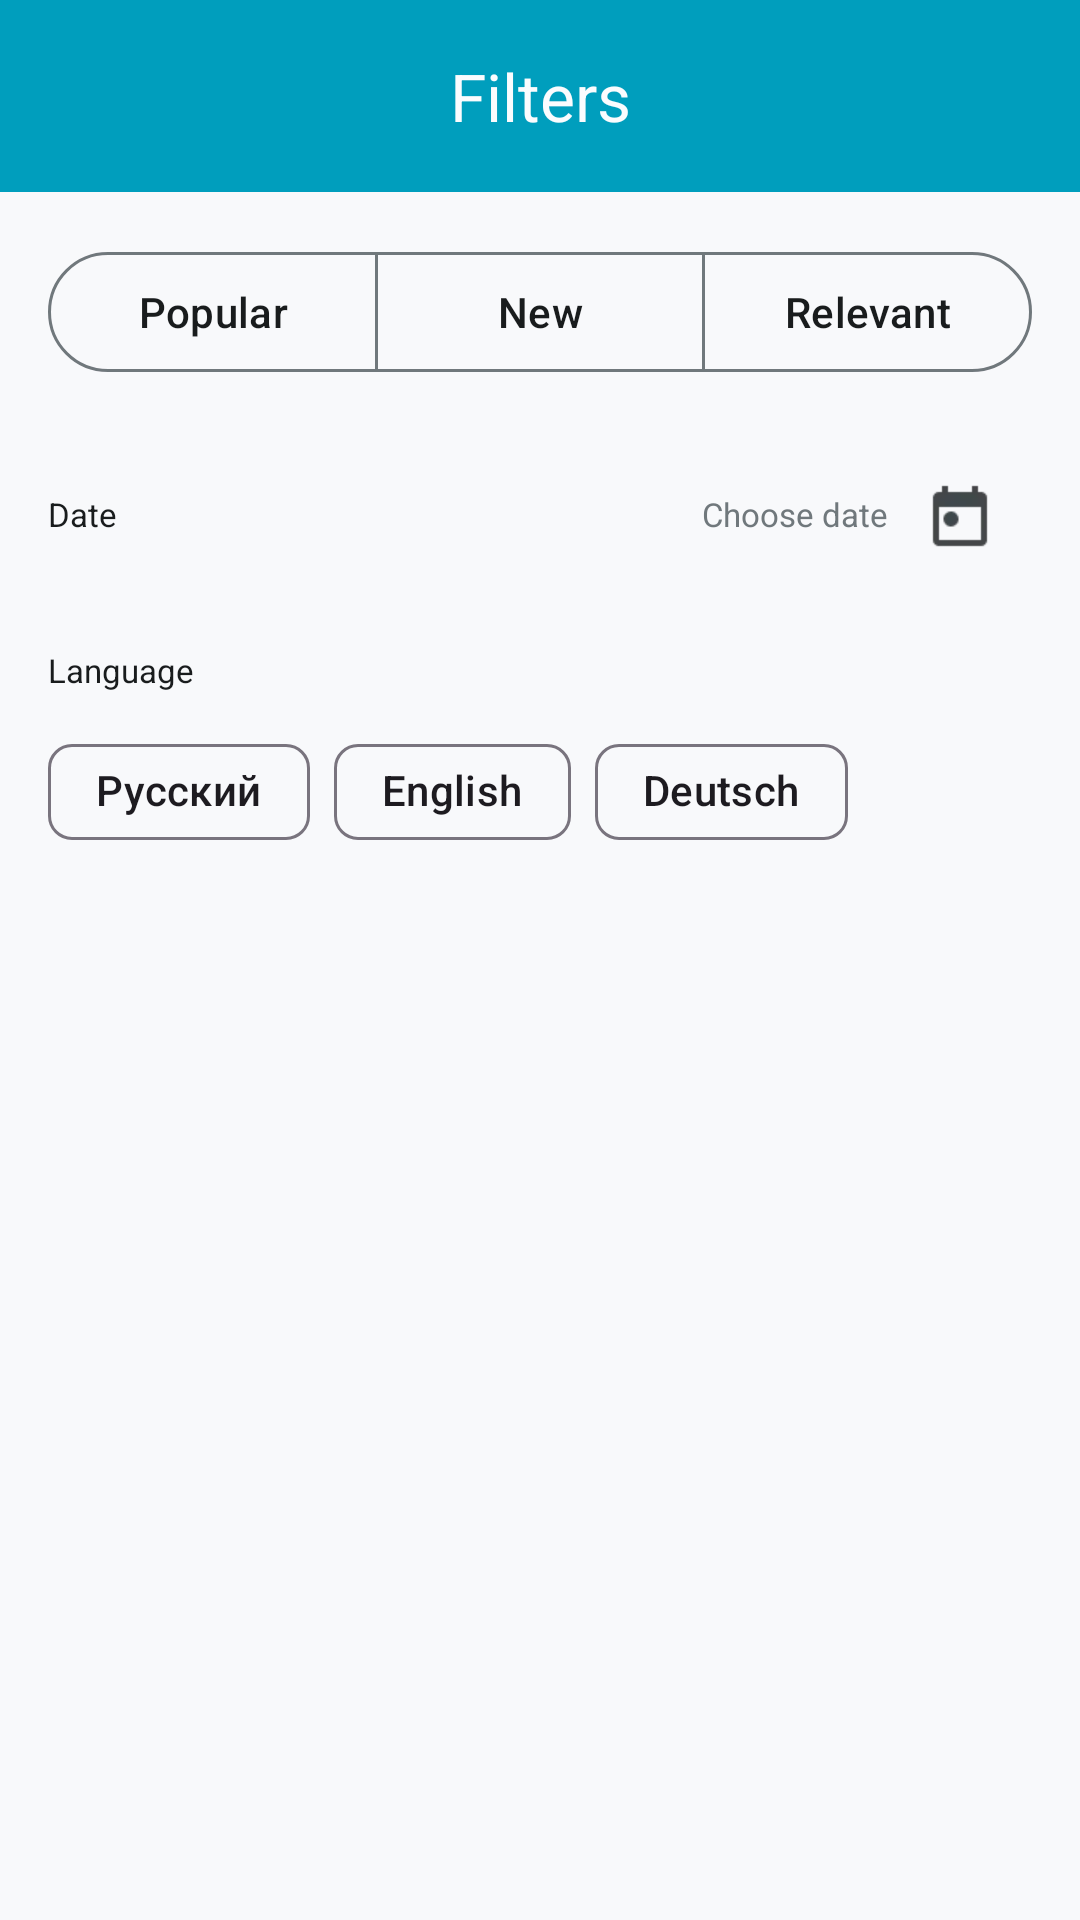

Screen size 1080px×1920px. Icon name, then its box in pixels as (x1, y1, x2, y2):
date time: (932, 485, 988, 547)
